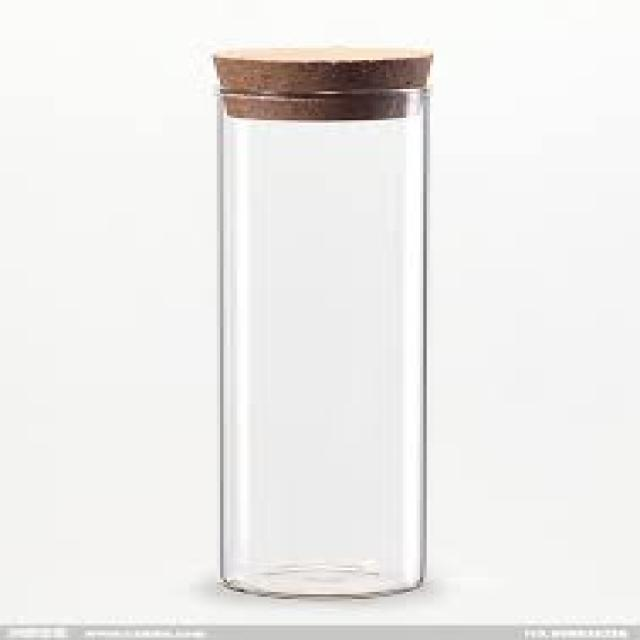glass: (210, 84, 423, 594)
